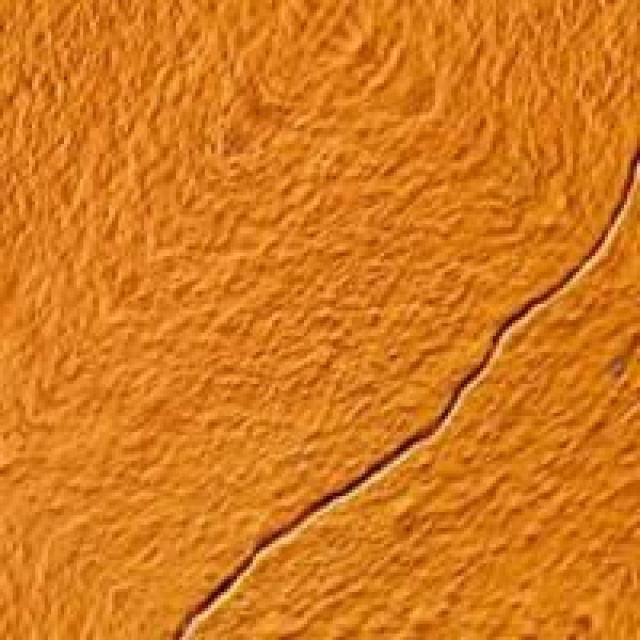crack: (163, 134, 627, 637)
